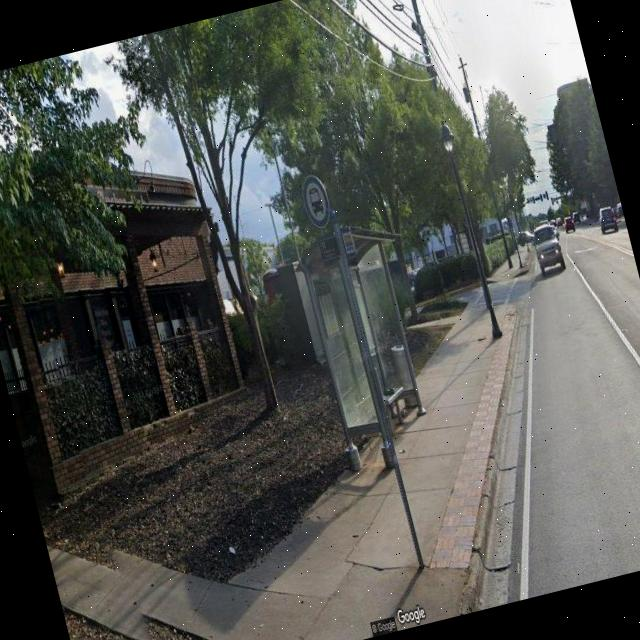seating: (378, 381, 412, 432)
shelter: (286, 212, 456, 482)
trash_can: (389, 340, 418, 410)
